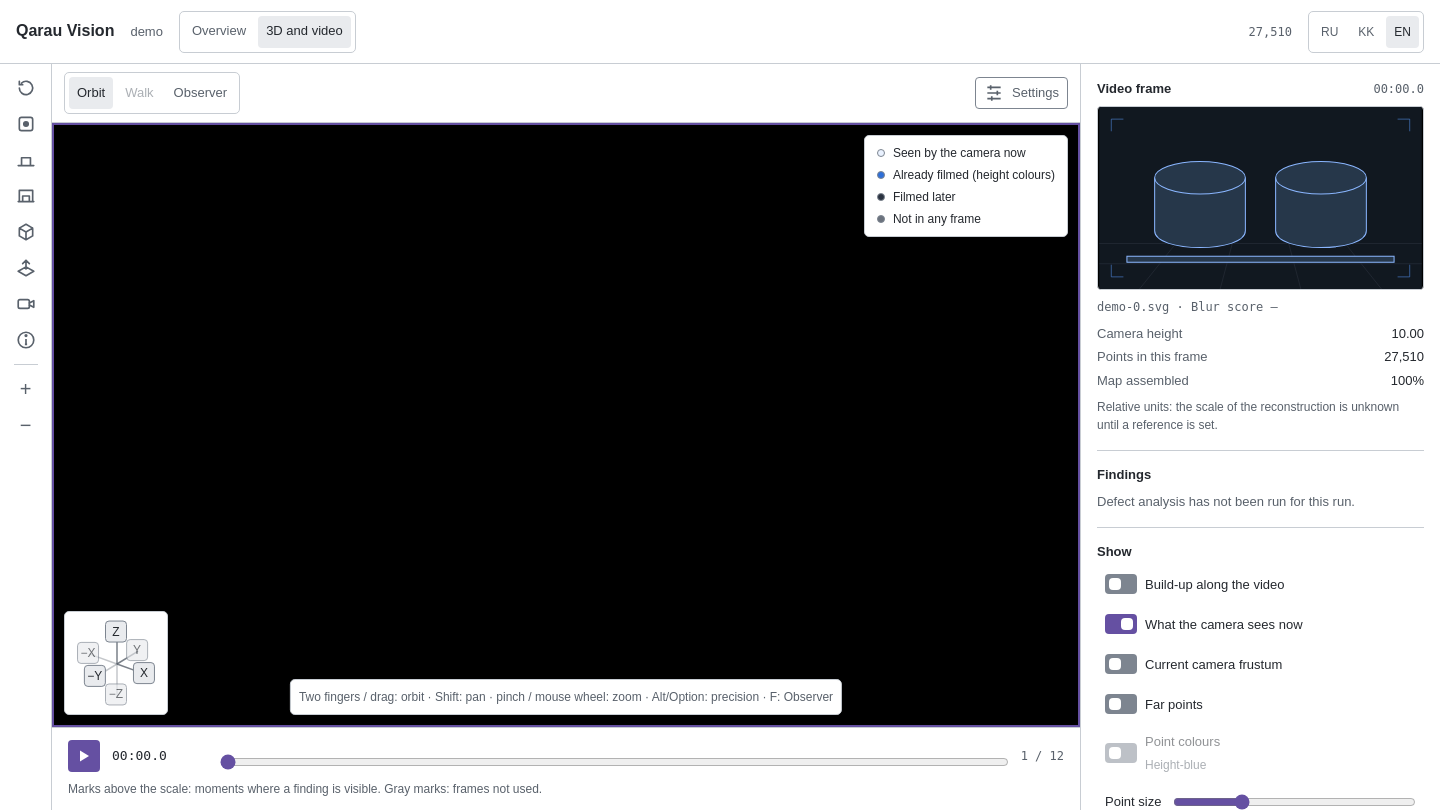
Test: localizes axis controls and the Observer hint in en
The image size is (1440, 810).
Expected: the button named "Right view (+X)" is shown, [133,662,155,684]
Expected: the button named "Left view (−X)" is shown, [77,642,99,664]
Press f in the drawing named "Interactive 3D map with point cloud and camera path. Two-finger drag or mouse drag: orbit. Shift: pan. Pinch or mouse wh", box [52,123,1080,727]
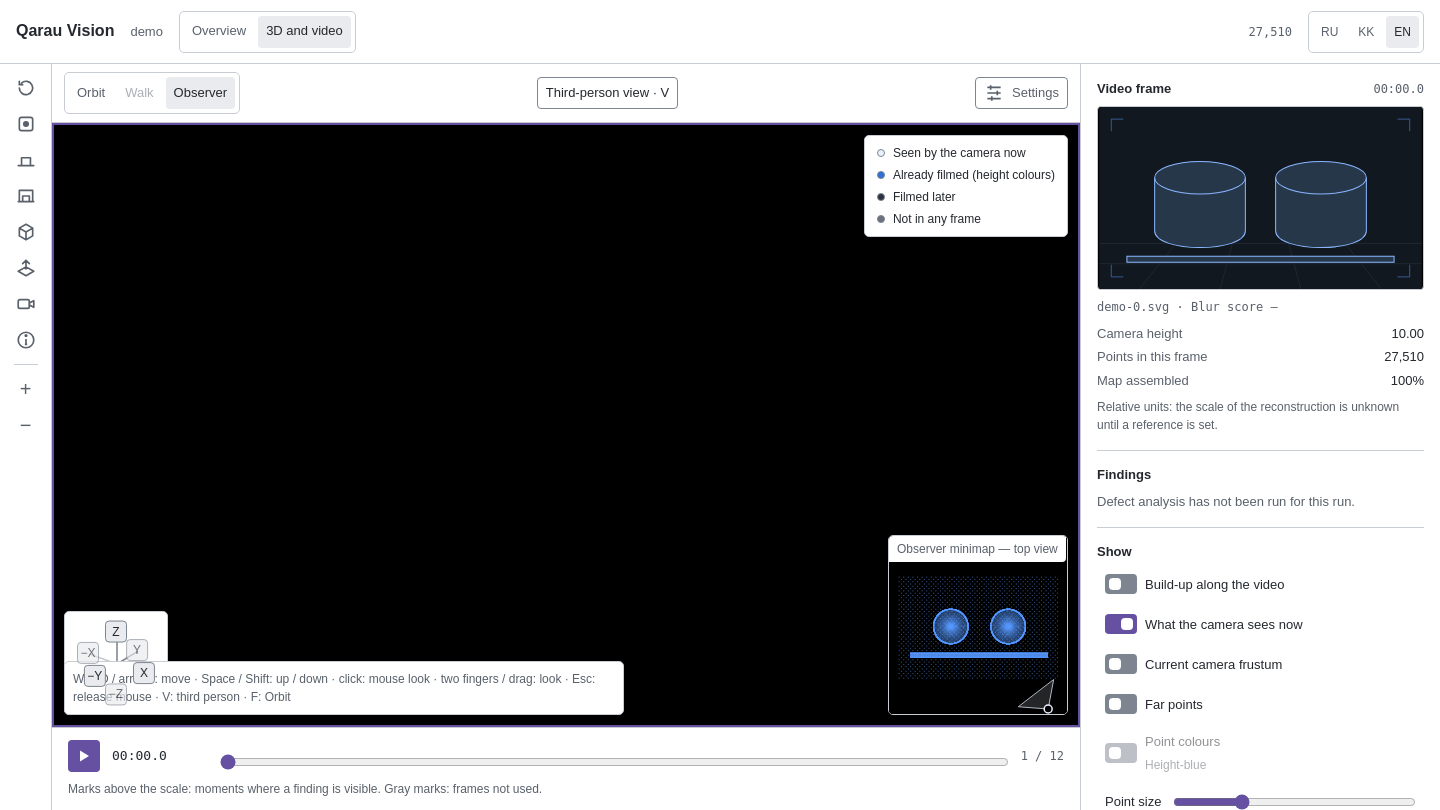
Expected: the message shows "WASD / arrows: move · Space / Shift: up / down · click: mouse look · two fingers / drag: look · Esc: release mouse · V: third person · F: Orbit", [73,672,595,704]
Click the button named "Top view (+Z)". click: (116, 632)
box: [105,620,127,642]
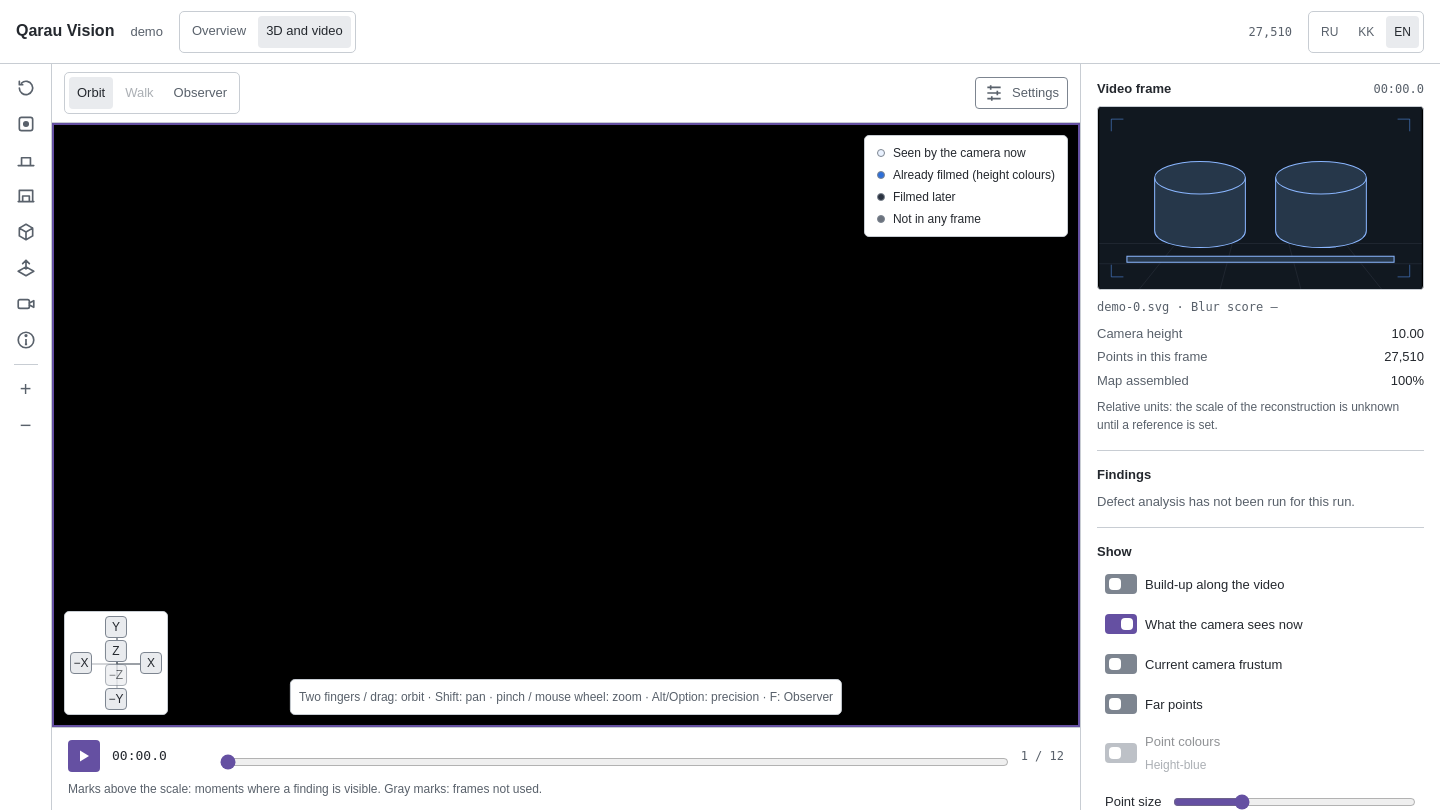
Expected: the message shows "Two fingers / drag: orbit · Shift: pan · pinch / mouse wheel: zoom · Alt/Option: precision · F: Observer", [299,690,833,704]
